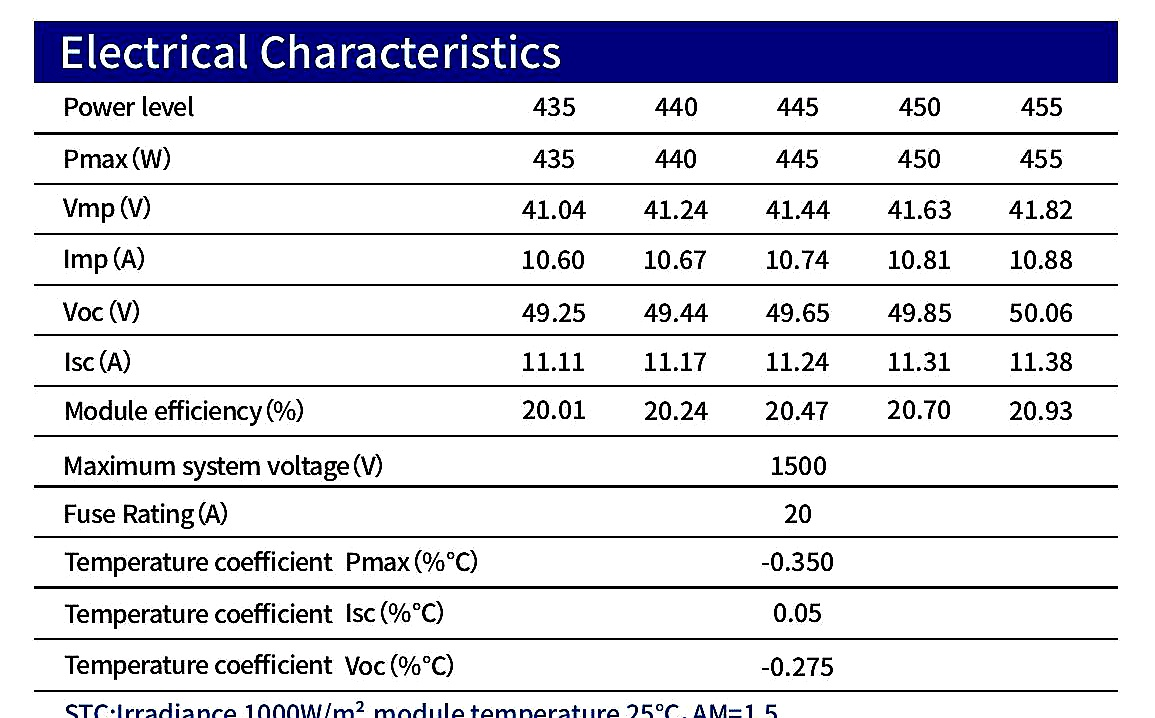table: (25, 14, 1131, 698)
table column: (37, 22, 506, 693), (990, 19, 1118, 690), (738, 22, 863, 693), (865, 20, 990, 691), (508, 22, 625, 693), (625, 22, 737, 696)
table name: (36, 26, 1114, 82)
table row: (34, 25, 1120, 82), (34, 641, 1123, 687), (37, 438, 1121, 483), (41, 490, 1122, 535), (32, 237, 1121, 281), (36, 592, 1123, 636), (35, 186, 1121, 230), (35, 339, 1121, 383), (33, 86, 1118, 130), (39, 540, 1124, 584), (35, 389, 1122, 432), (35, 139, 1120, 182), (36, 288, 1120, 330)
table row header: (39, 24, 505, 692)
table spanning cell: (39, 26, 1114, 83), (507, 436, 1117, 487), (509, 487, 1121, 536), (507, 589, 1116, 637), (507, 539, 1116, 585), (507, 643, 1117, 688)
